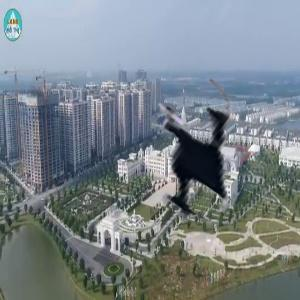drone: (104, 72, 280, 248)
